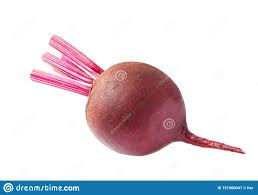beet: (31, 36, 243, 154)
